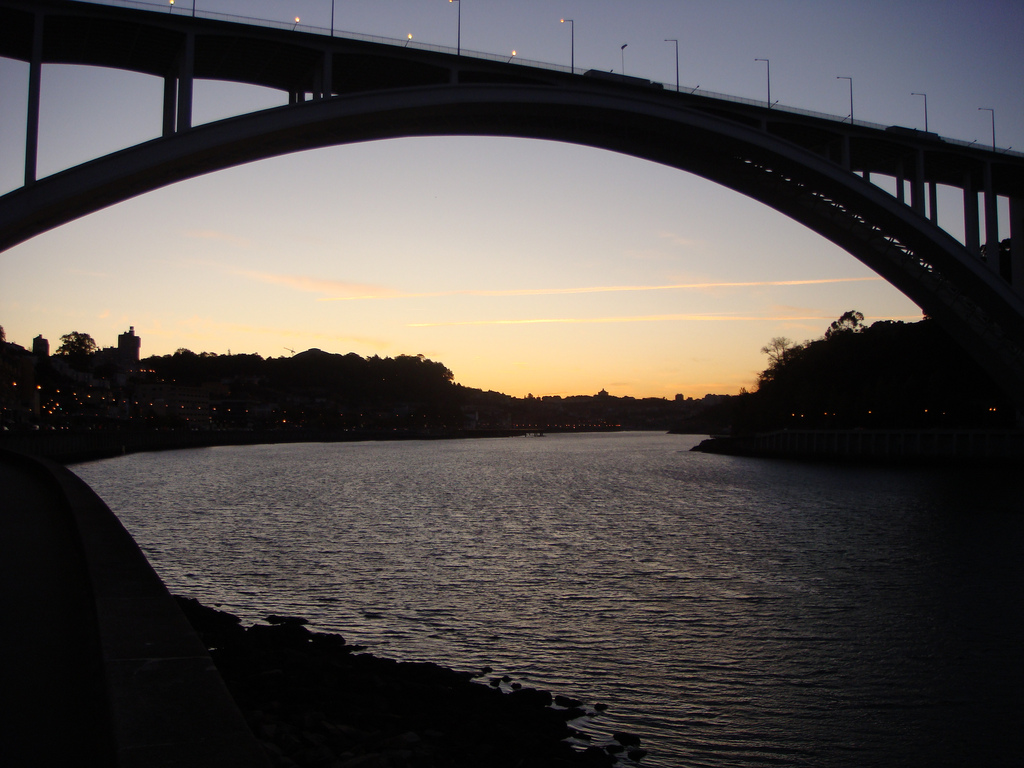arrabida: (0, 0, 1023, 412)
